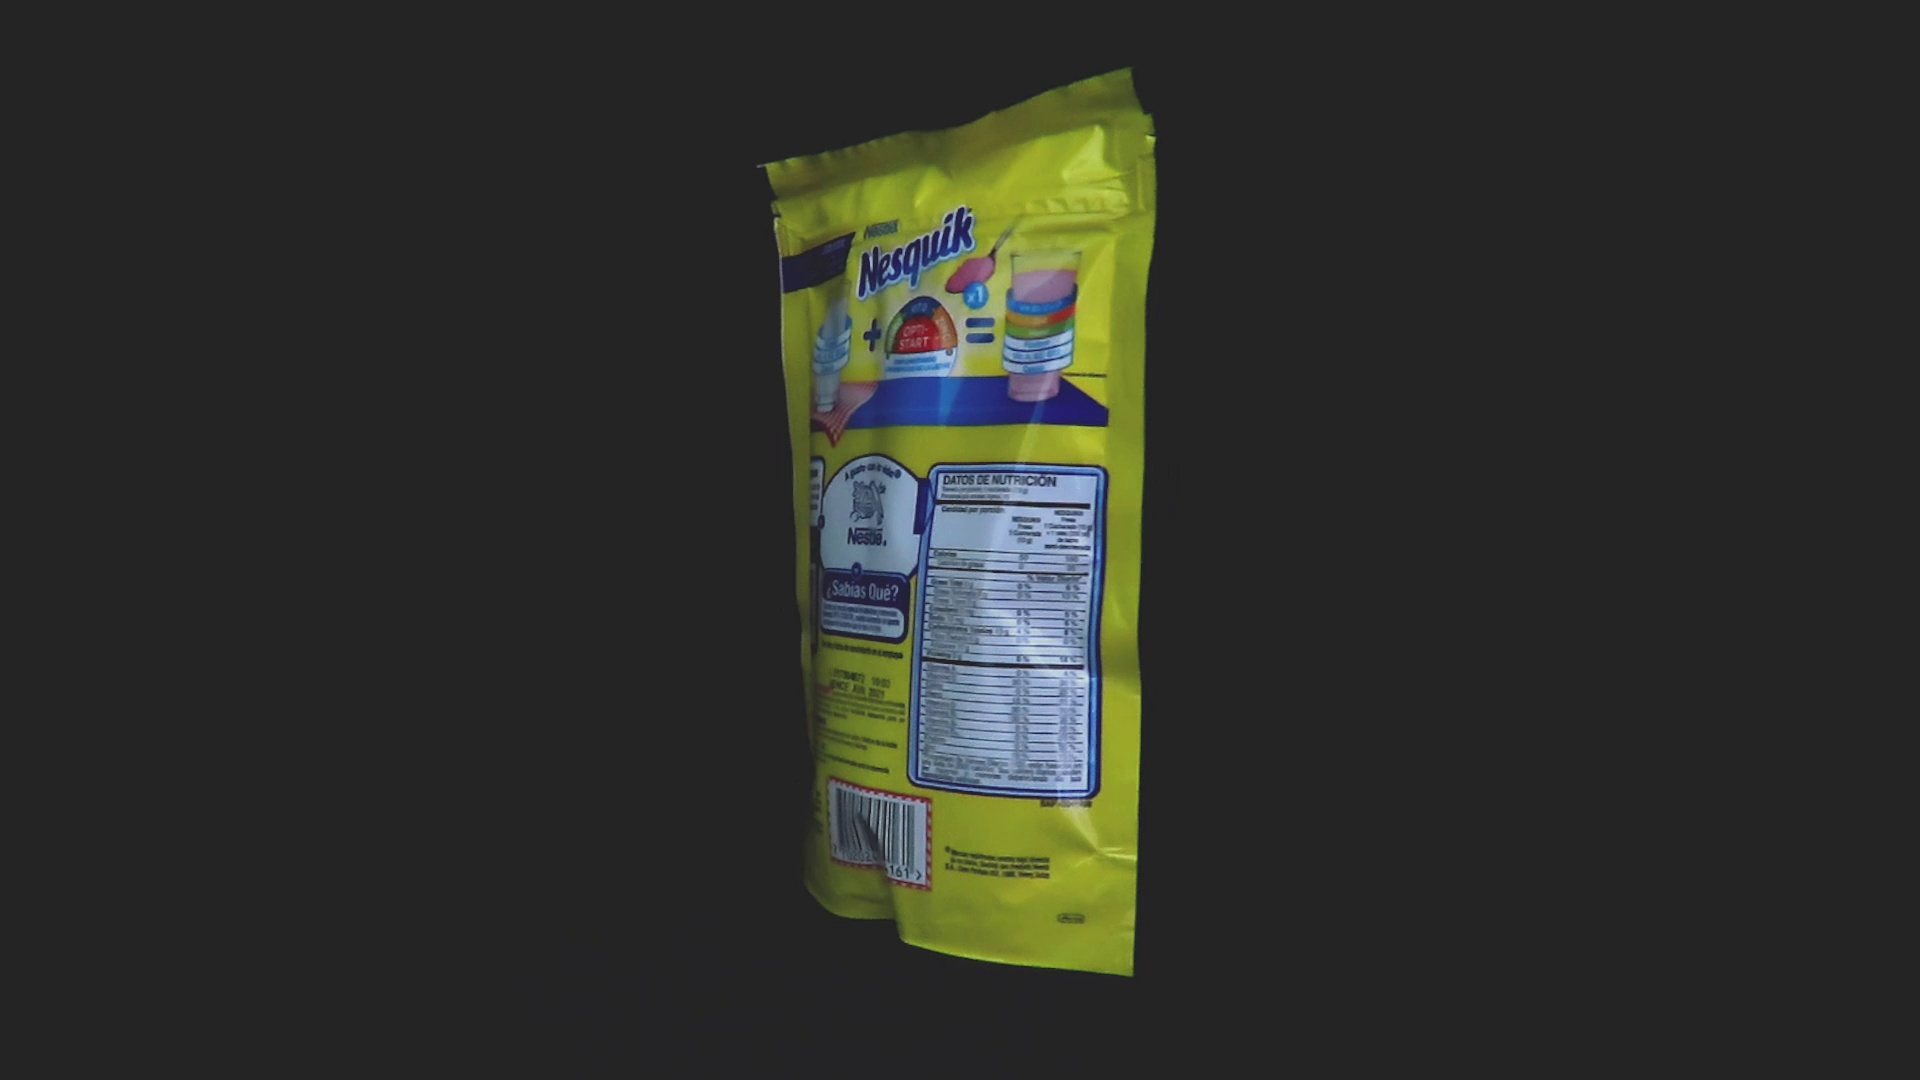COL0170305DYP20000: (752, 62, 1163, 982)
